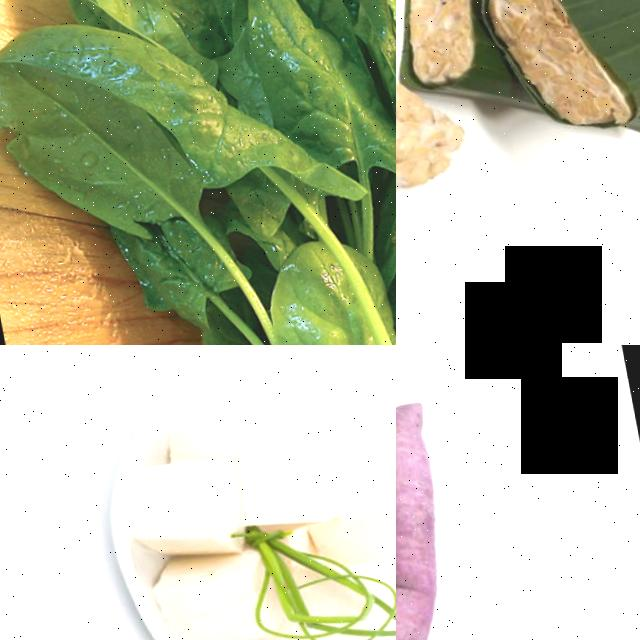spinach: (0, 0, 333, 215), (257, 249, 372, 345)
sweet potato: (396, 394, 477, 640)
tempeh: (489, 0, 620, 132), (396, 80, 463, 196), (396, 0, 480, 81)
tofu: (238, 0, 396, 181), (114, 451, 243, 551), (141, 552, 258, 640), (233, 447, 344, 528), (328, 470, 396, 566), (164, 410, 277, 462)
